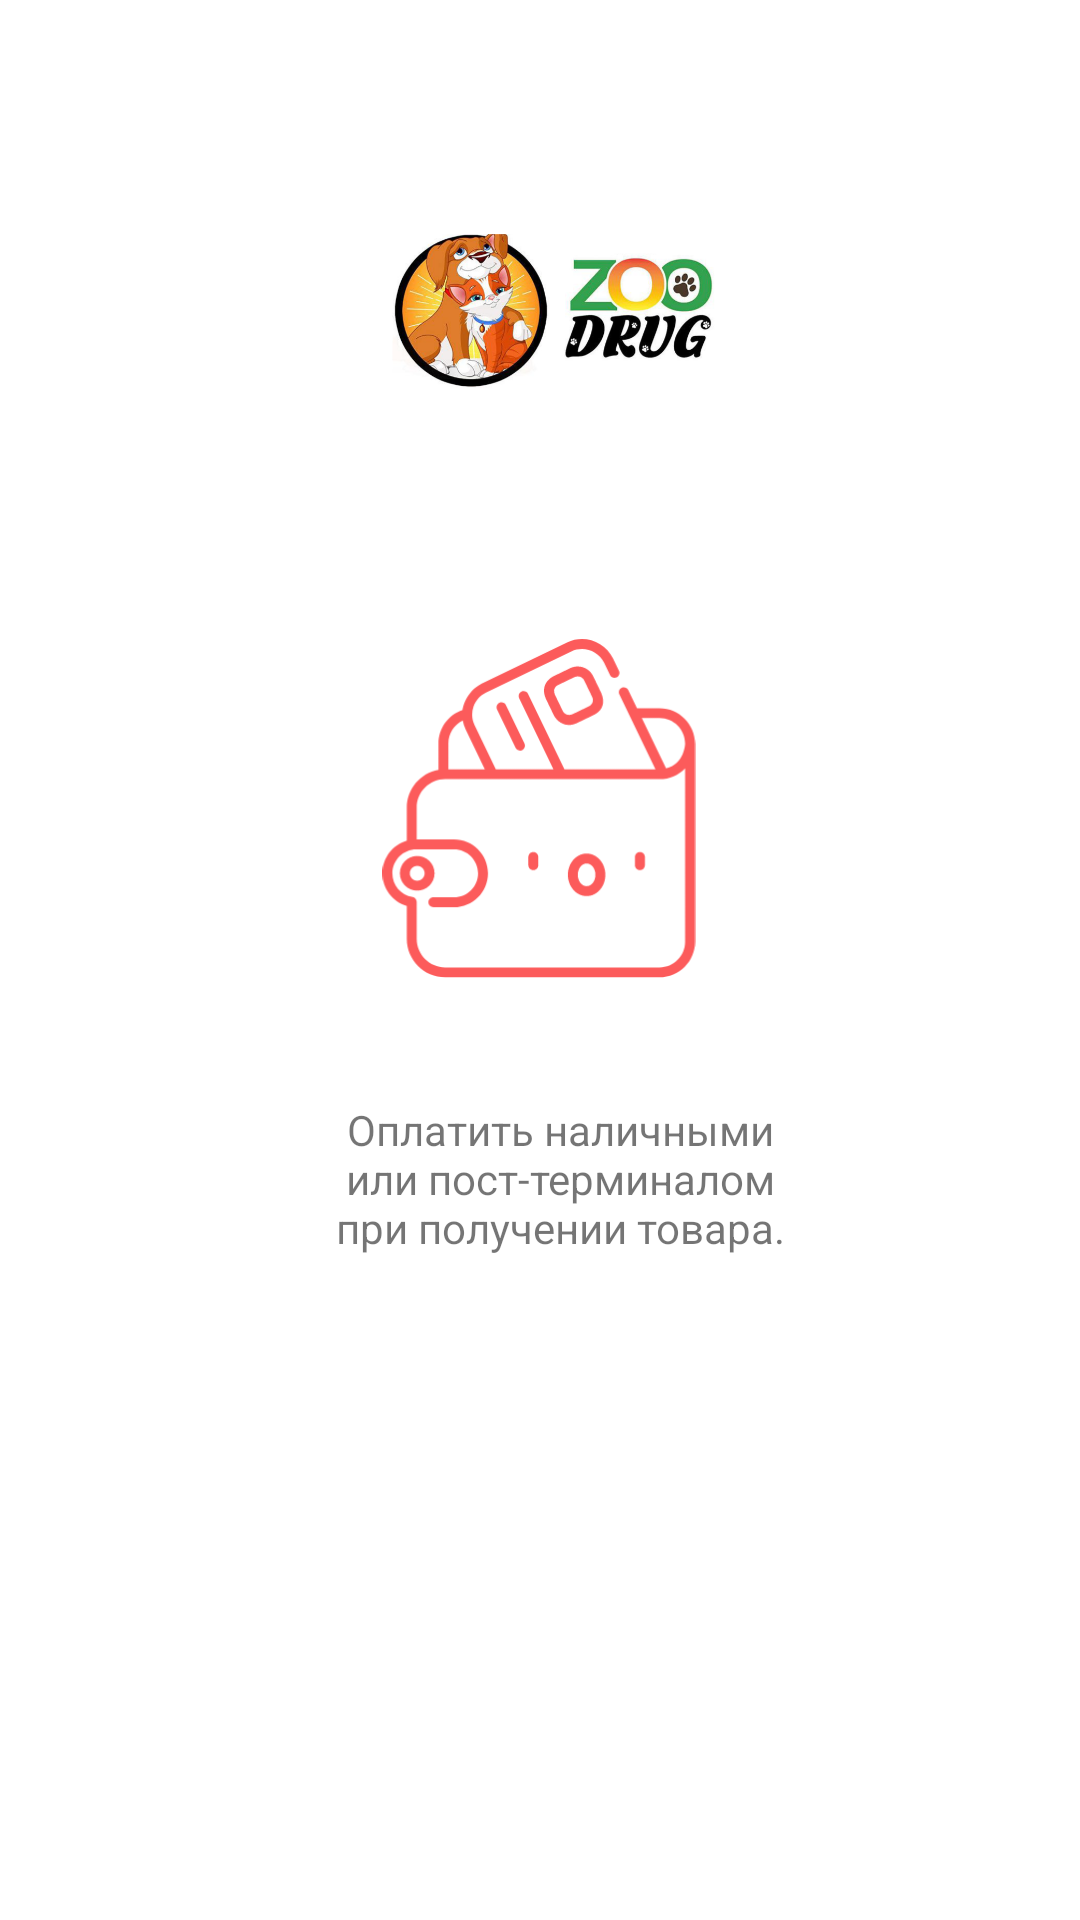

Where to tap for icons on this 1080 × 1920 app screen, as point (x, y):
wallet: point (539, 808)
